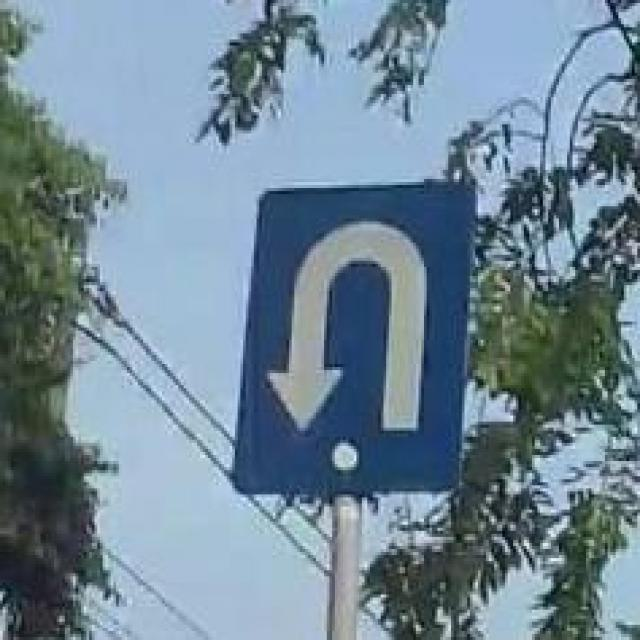U-turn: (241, 186, 465, 494)
